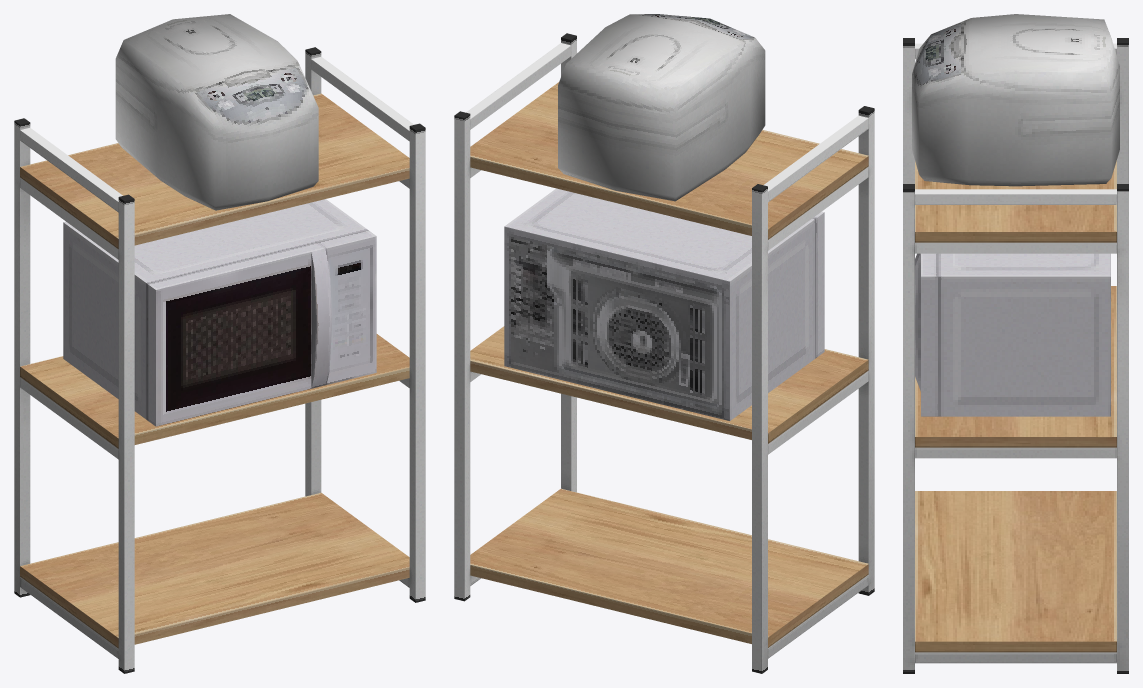
Rendered from KitchenShelves.glb.
3 renders of one model, left to right at view 1: azimuth 30°, elevation 25°; view 2: azimuth 150°, elevation 25°; view 3: azimuth 270°, elevation 25°, orthographic. The views are drawn at different scales.
Visible parts, largest first — view 1: kitchen shelves, rice cooker, microwave door, microwave; view 2: kitchen shelves, microwave, rice cooker, microwave door; view 3: kitchen shelves, rice cooker, microwave, microwave door.
Boxes of the visible parts, box(x1,y1,x2,y2) form: kitchen shelves: box(14, 47, 425, 673); rice cooker: box(115, 14, 318, 210); microwave door: box(147, 242, 332, 426); microwave: box(63, 199, 376, 419); kitchen shelves: box(454, 33, 874, 673); microwave: box(504, 188, 815, 420); rice cooker: box(558, 14, 765, 201); microwave door: box(813, 211, 824, 357); kitchen shelves: box(903, 38, 1128, 673); rice cooker: box(912, 14, 1119, 186); microwave: box(921, 253, 1110, 416); microwave door: box(915, 253, 920, 391).
Size of the model in its own units: 0.6 by 1.04 by 0.38.
Materials: 2 (2 with a texture image).
